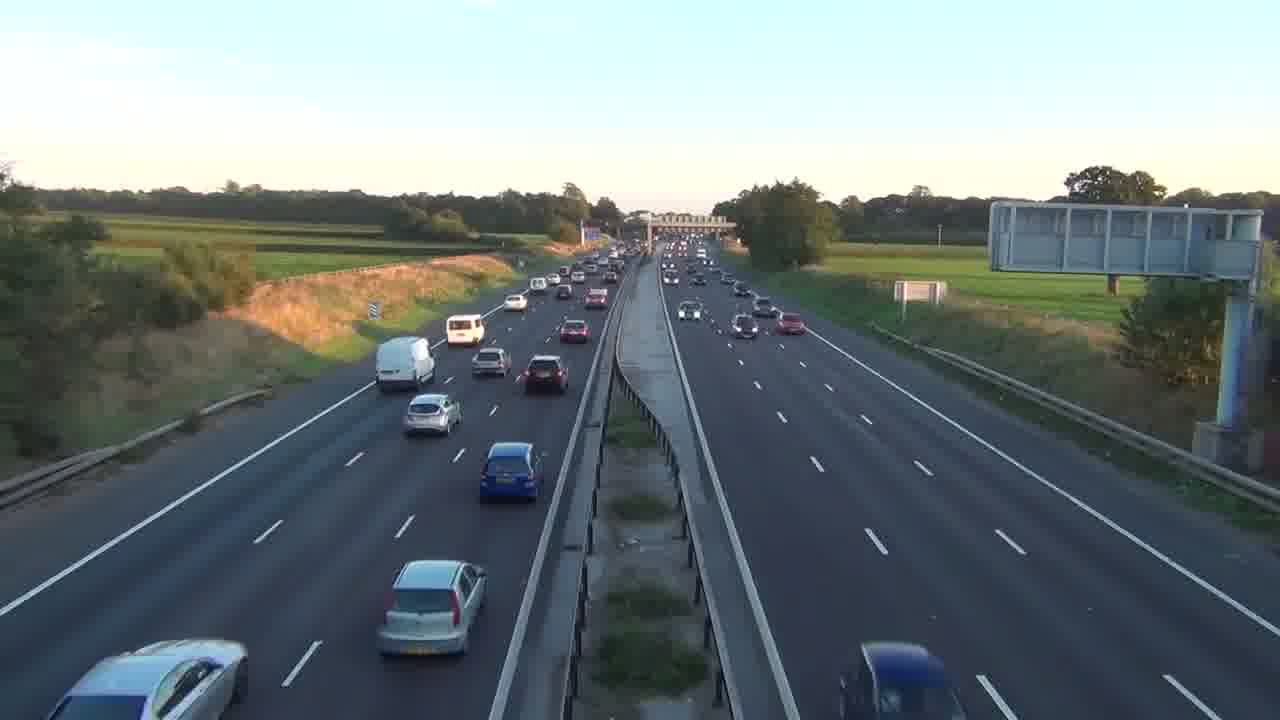car: (46, 637, 249, 719), (376, 559, 488, 658), (839, 640, 969, 718), (479, 441, 547, 503), (402, 392, 455, 437), (522, 353, 568, 394), (471, 347, 512, 379), (558, 319, 592, 344), (776, 312, 806, 336)
truck: (374, 335, 436, 394), (446, 314, 485, 346)
